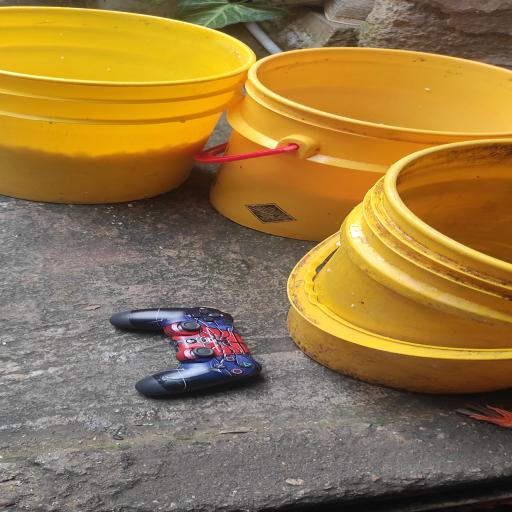ControlPlay4: (111, 307, 261, 396)
